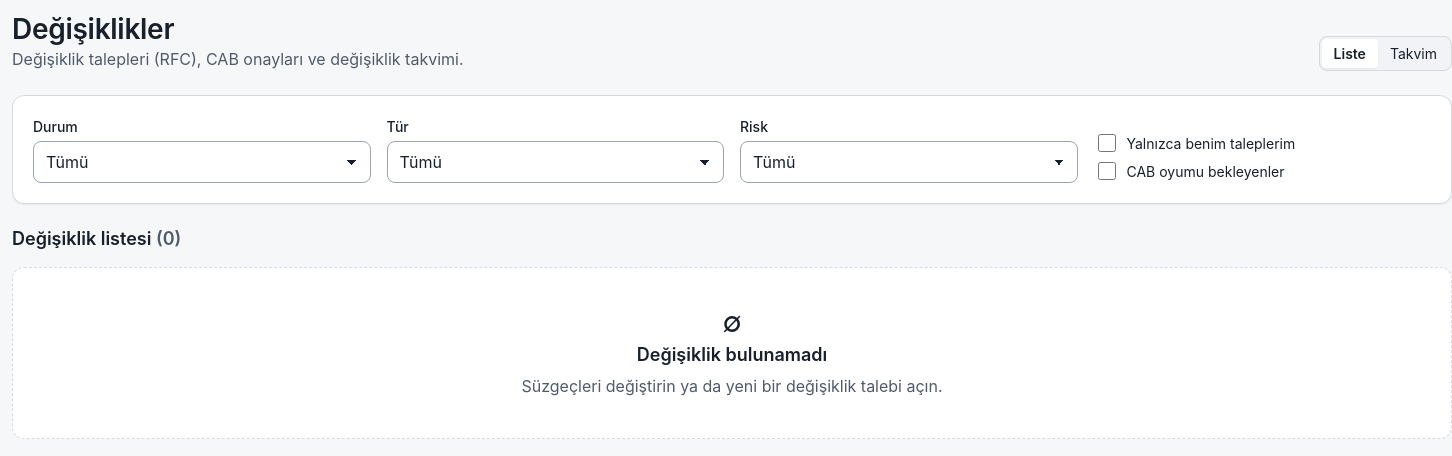
Scenario: ChangeListPage — liste › "CAB oyumu bekleyenler": yetkilendirmedeki, oy vermediğim ve talep etmediğim değişiklikler
Click the checkbox labelled "CAB oyumu bekleyenler" at coordinates (1106, 171), box top-left (1098, 162), bottom-right (1116, 180)
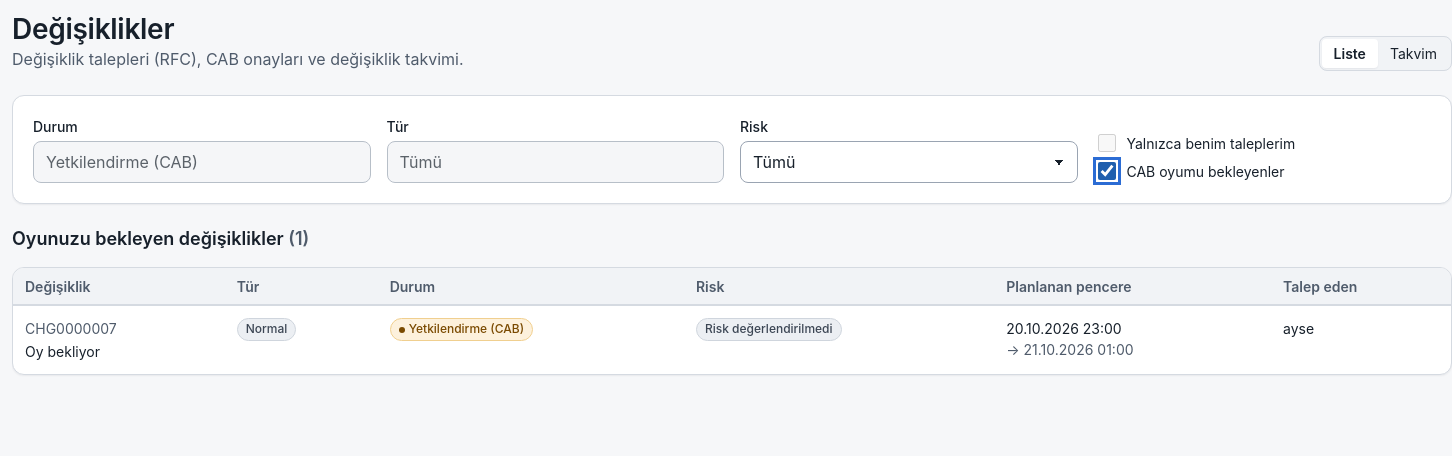
Result: the text "Oy bekliyor" is shown at top-left (25, 342), bottom-right (100, 360)
Result: the number of rows with test id "change-row" is 1 at top-left (13, 305), bottom-right (1451, 374)
Result: the dropdown labelled "Durum" is disabled at top-left (33, 141), bottom-right (370, 183)
